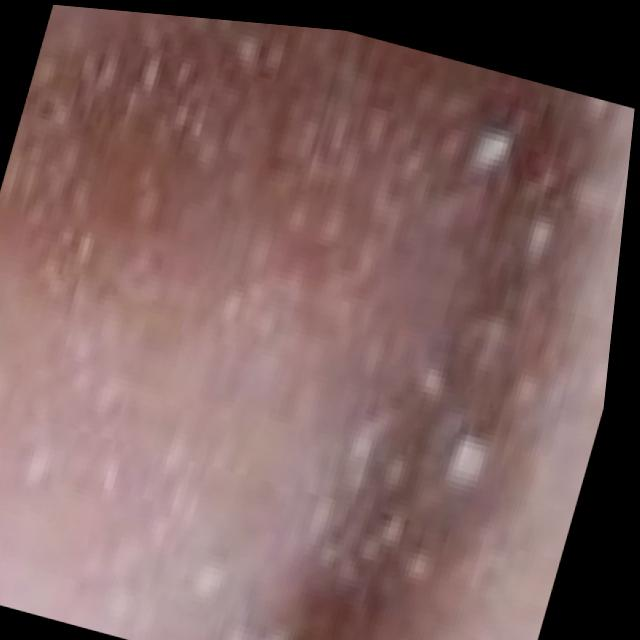whitehead: (184, 59, 635, 640)
